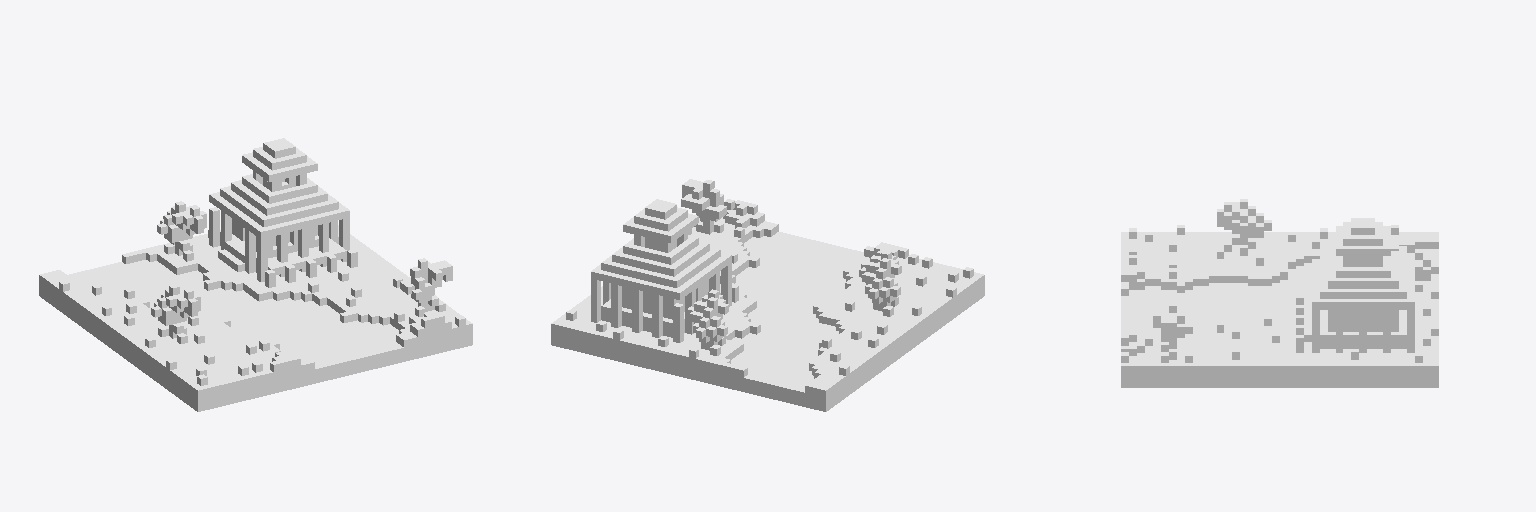
Rendered from VoxelMap.obj.
The picture shows the model from 3 angles: view 1: azimuth 30°, elevation 25°; view 2: azimuth 150°, elevation 25°; view 3: azimuth 270°, elevation 25°; orthographic projection.
Visible parts, largest first — view 1: object 1; view 2: object 1; view 3: object 1.
Part boxes in pixels (left/top/right/bottom): object 1: left=39, top=138, right=472, bottom=411; object 1: left=551, top=179, right=984, bottom=411; object 1: left=1121, top=199, right=1438, bottom=387.
Size of the model in its own units: 4 by 1.8 by 4.